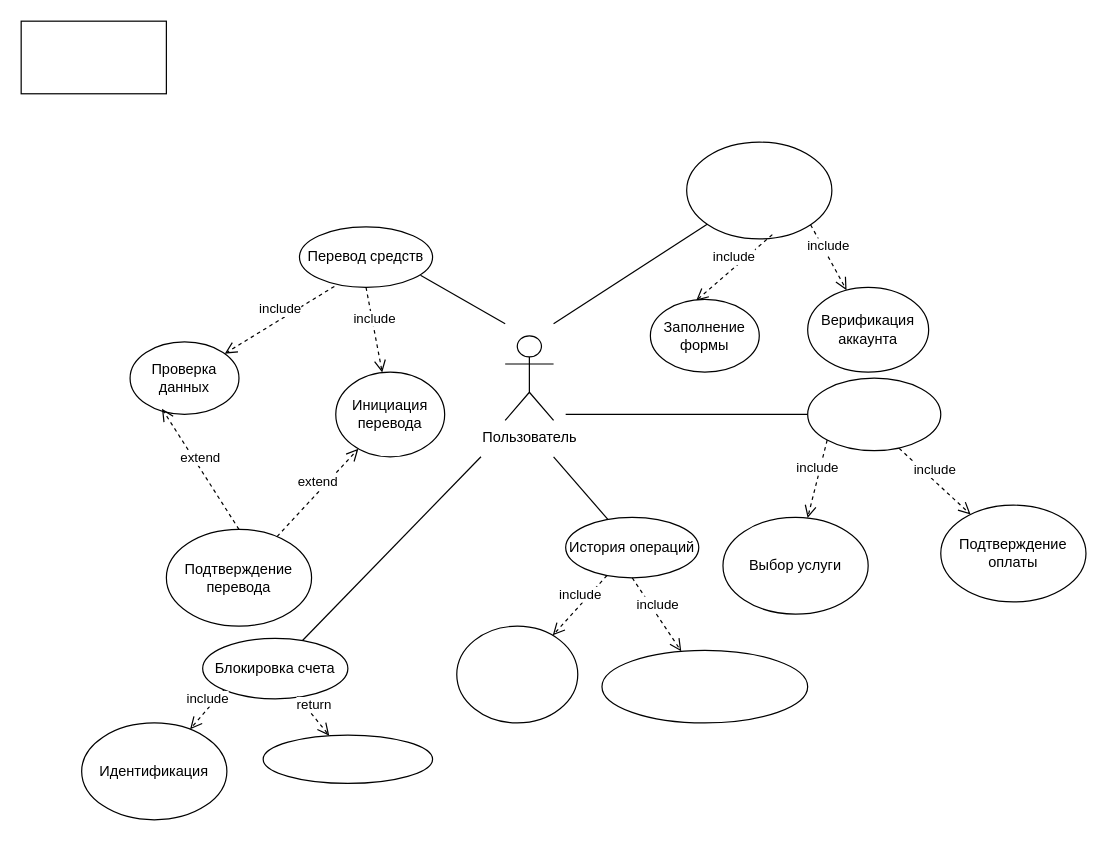
Image size: 1107x841. Some labels were removed from this diagram. The box of each missing label's shape, as (x1, y1, x2, y2) in pixels:
20. Платежная Система: (20, 20, 166, 94)
Активация блокировки: (262, 734, 433, 783)
Оплата услуг: (806, 377, 941, 451)
Просмотр операций: (456, 625, 578, 723)
Создание счета: (685, 141, 832, 239)
Фильтрация по дате: (601, 649, 808, 723)
